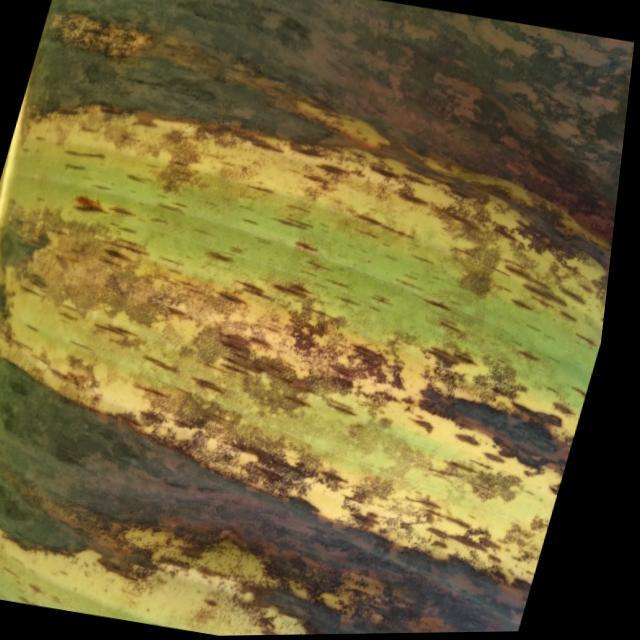Early_rust: (0, 32, 592, 640)
